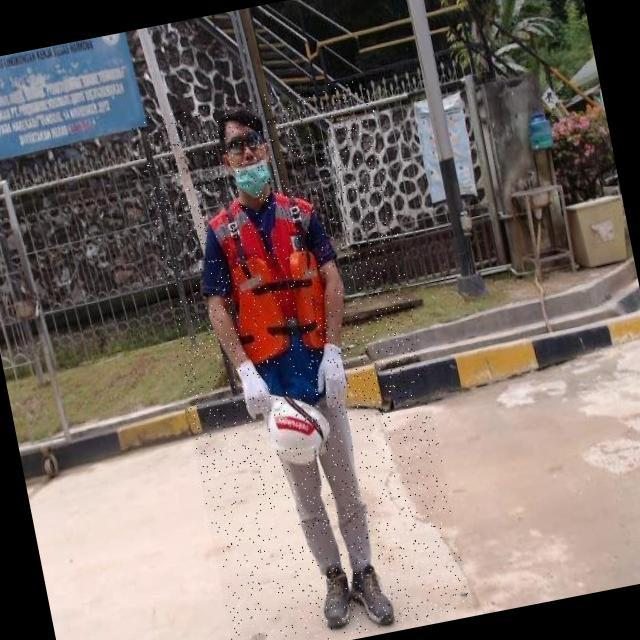Helmet: (257, 382, 336, 474)
Human: (130, 74, 471, 640)
Safety Boot: (346, 562, 400, 634), (311, 559, 358, 634)
Safety Vest: (204, 192, 353, 420)
